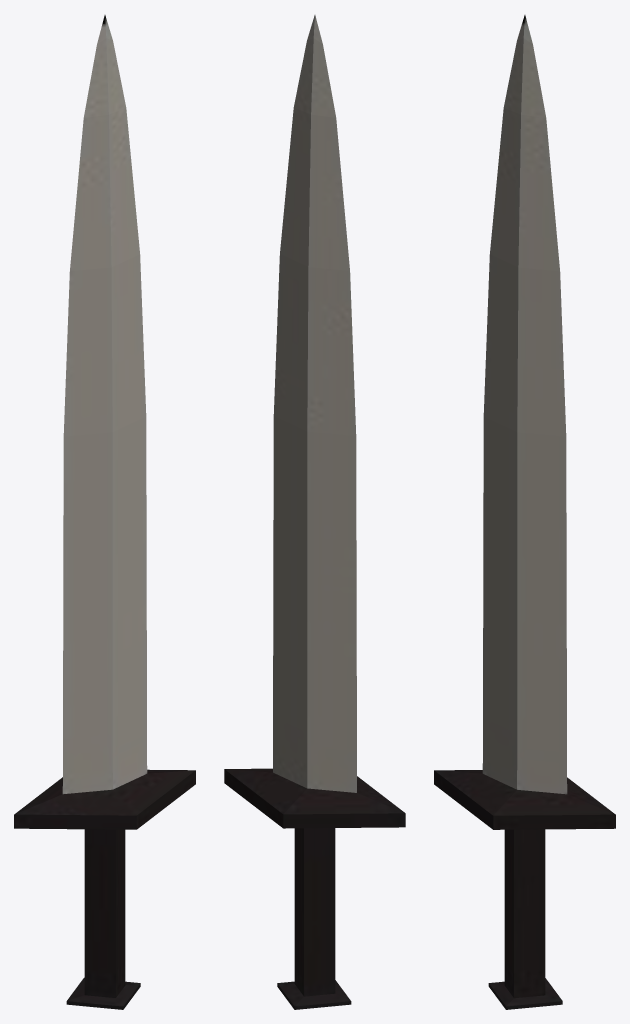
Rendered from sword.fbx.
3 views of the same model, side by side, from view 1: azimuth 30°, elevation 25°; view 2: azimuth 150°, elevation 25°; view 3: azimuth 330°, elevation 25° (orthographic).
Parts seen in each view (by area): view 1: Cube.012_Baked; view 2: Cube.012_Baked; view 3: Cube.012_Baked.
Part boxes in pixels (x1,y1,x2,y2): Cube.012_Baked: [14, 15, 195, 1009]; Cube.012_Baked: [224, 15, 405, 1009]; Cube.012_Baked: [434, 15, 615, 1009].
Bounding box in the file's own units: 9.4 × 48.57 × 5.69.
